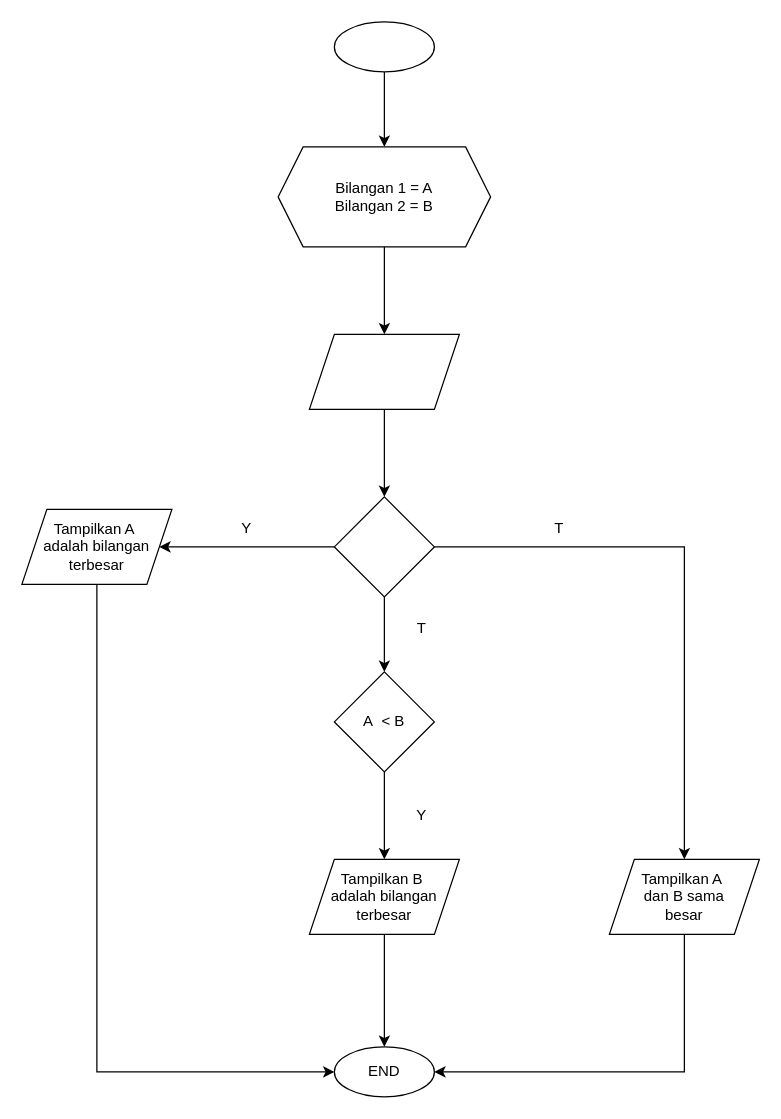
This 781x1119 diagram has some shape labels left out. Here are the shapes that lost their labels. From the top down, the centre of each, then its label:
the point at 383,46: START
the point at 383,371: INPUT A INPUT B
the point at 383,546: A > B
